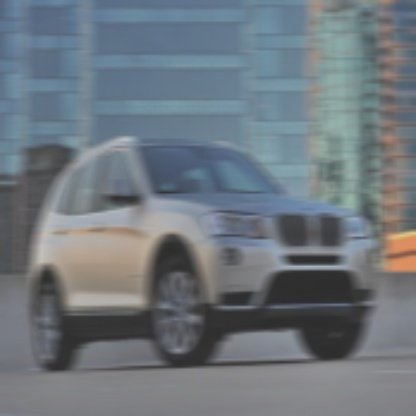Vehicle: (31, 138, 379, 372)
